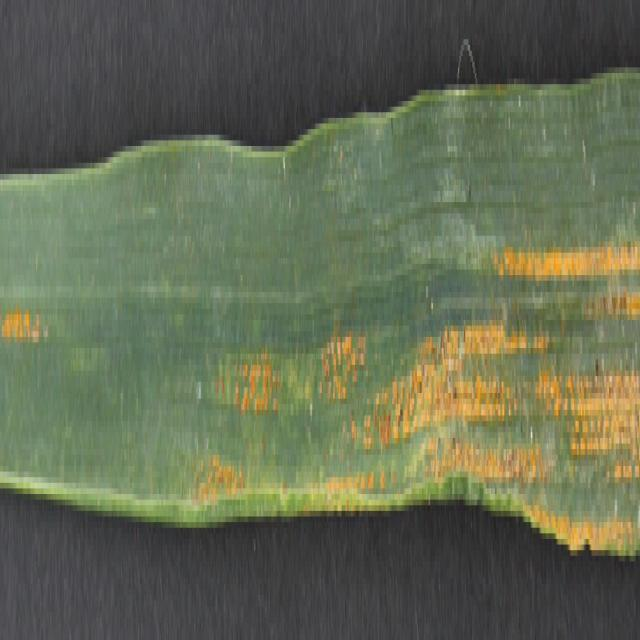leaf rust: (200, 196, 640, 544), (0, 241, 48, 438)
